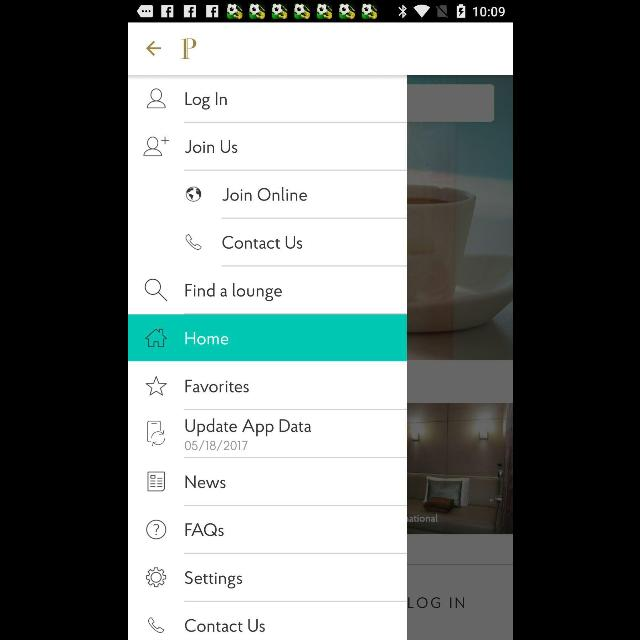icon: (144, 278, 166, 302), (143, 137, 169, 157), (145, 328, 167, 348), (144, 376, 166, 396), (146, 88, 166, 108), (146, 520, 166, 540), (146, 567, 166, 587), (147, 471, 165, 492), (145, 41, 161, 57)
image: (146, 421, 164, 447), (178, 39, 196, 60), (185, 186, 201, 202), (185, 234, 201, 250), (148, 617, 164, 633)
panel: (128, 75, 406, 640)
text: (185, 418, 312, 437), (185, 282, 282, 302), (222, 187, 306, 201), (184, 619, 264, 633), (222, 236, 302, 250), (184, 571, 242, 589), (185, 380, 249, 392), (184, 92, 226, 110), (185, 140, 238, 154), (183, 440, 247, 450), (184, 332, 228, 346), (184, 523, 223, 537), (184, 476, 226, 488)
toolbar: (128, 23, 512, 75)
uppertaskbar: (128, 1, 512, 23)
